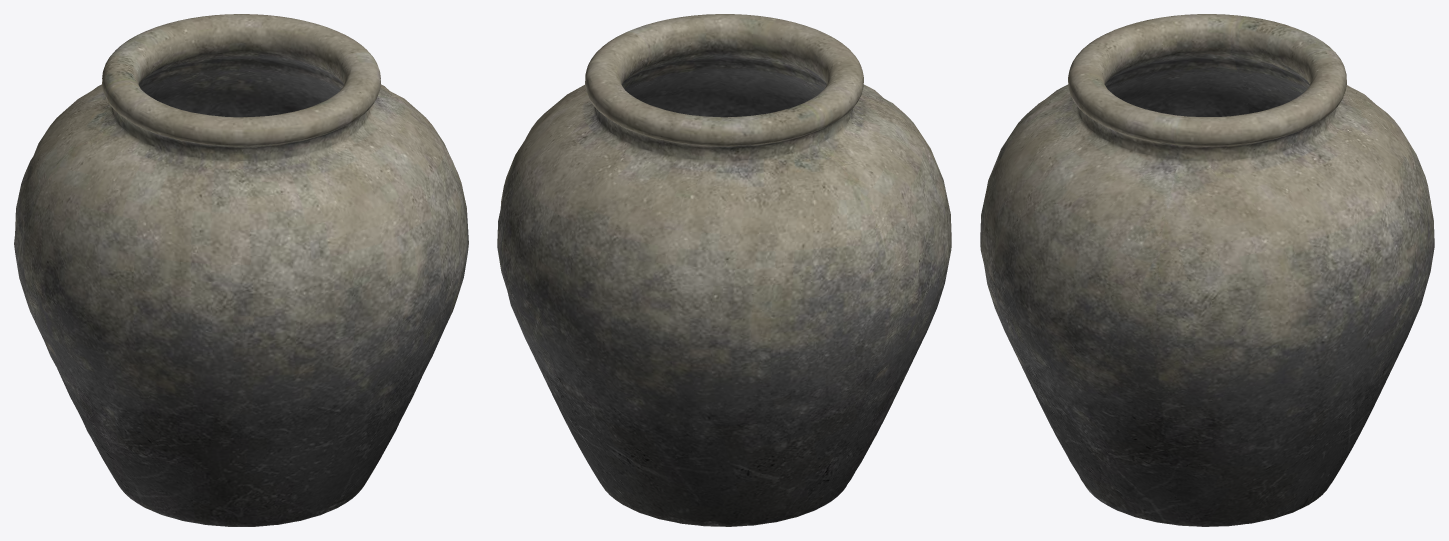
The model's file is 老罐子2.fbx.
3 views of the same model, side by side, from view 1: azimuth 30°, elevation 25°; view 2: azimuth 150°, elevation 25°; view 3: azimuth 270°, elevation 25° (orthographic).
Visible parts, largest first — view 1: 3d66-Editable_Poly-32443966-009; view 2: 3d66-Editable_Poly-32443966-009; view 3: 3d66-Editable_Poly-32443966-009.
Part boxes in pixels (bbox=[...]): 3d66-Editable_Poly-32443966-009: bbox=[14, 14, 468, 526]; 3d66-Editable_Poly-32443966-009: bbox=[497, 14, 951, 526]; 3d66-Editable_Poly-32443966-009: bbox=[980, 14, 1434, 526].
Size of the model in its own units: 227 by 224 by 227.
1 material, 1 textured.
